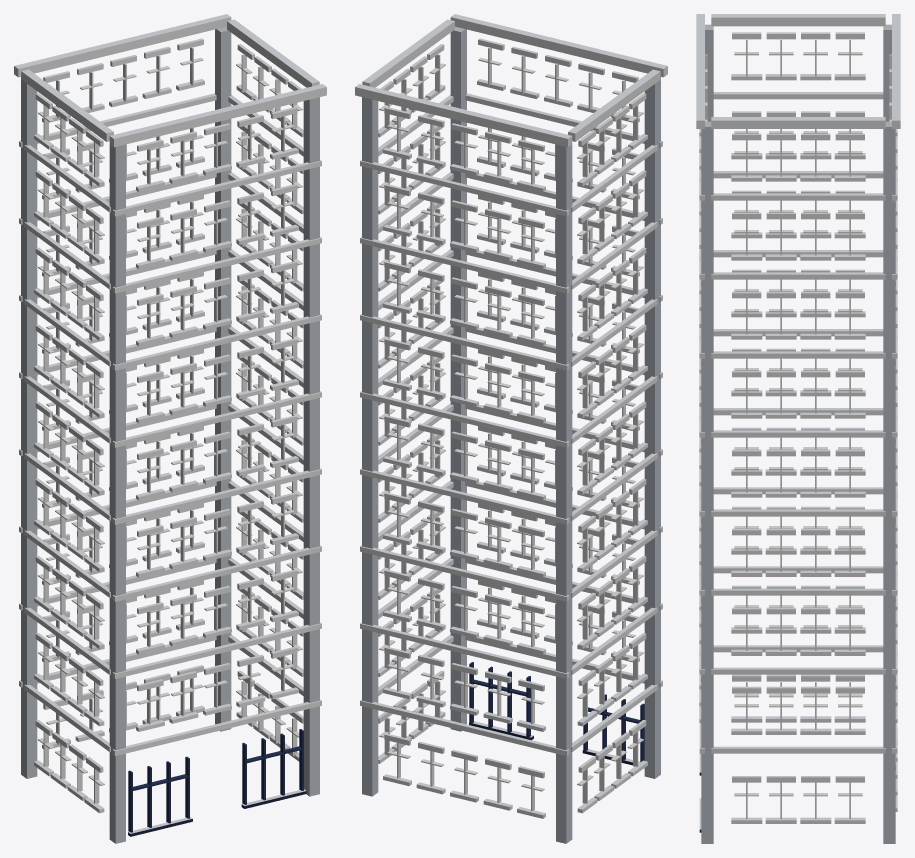
The model's file is Apartment_Tower_Trim.glb.
The picture shows the model from 3 angles, left to right: view 1: azimuth 30°, elevation 25°; view 2: azimuth 150°, elevation 25°; view 3: azimuth 270°, elevation 25°; orthographic projection. The views are drawn at different scales.
Visible parts, largest first — view 1: Apartment_Tower_Trim; view 2: Apartment_Tower_Trim; view 3: Apartment_Tower_Trim.
Part boxes in pixels (x1=…): Apartment_Tower_Trim: x1=14, y1=14, x2=326, y2=843; Apartment_Tower_Trim: x1=355, y1=14, x2=667, y2=843; Apartment_Tower_Trim: x1=696, y1=14, x2=900, y2=843.
Bounding box in the file's own units: 31.8 × 101 × 25.8.
